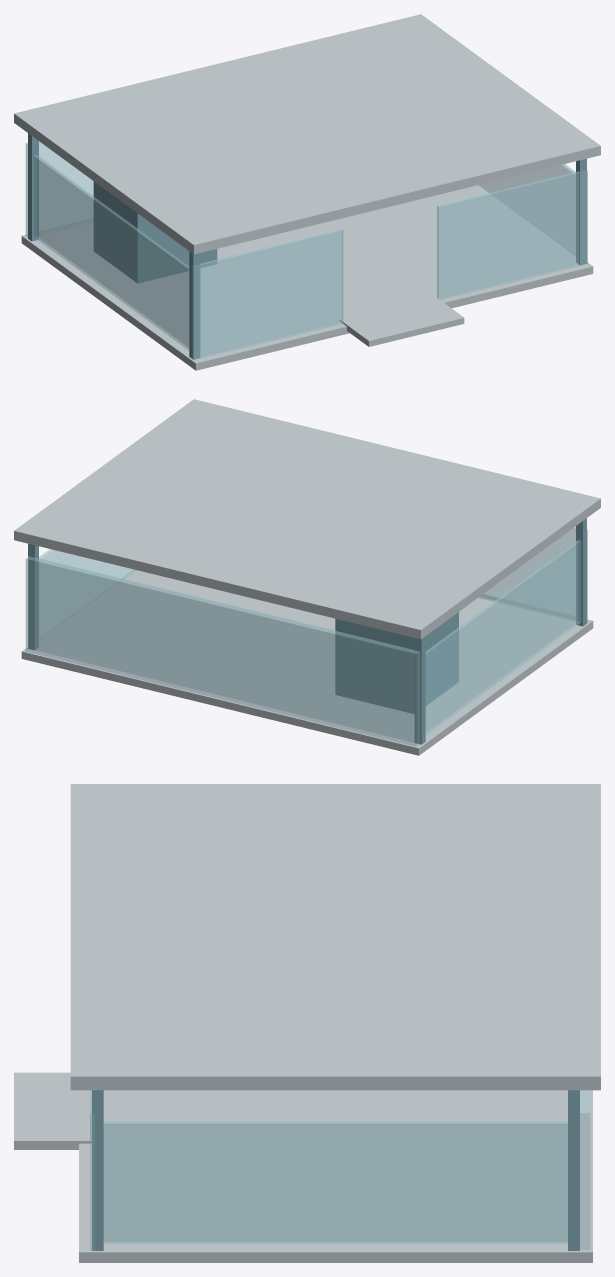
The model's file is sample-house.glb.
3 views of the same model, one above another, from view 1: azimuth 30°, elevation 25°; view 2: azimuth 150°, elevation 25°; view 3: azimuth 270°, elevation 25° (orthographic). The views are drawn at different scales.
Parts seen in each view (by area): view 1: Roof slab, Foundation / floor, Glazed entrance (×2), Glazed side wall (×2), Interior core, Rear facade, Steel column (×3), Raised threshold; view 2: Roof slab, Foundation / floor, Rear facade, Glazed side wall (×2), Interior core, Glazed entrance, Steel column (×3); view 3: Roof slab, Foundation / floor, Glazed side wall, Raised threshold, Steel column (×2), Rear facade, Glazed entrance.
Part boxes in pixels (x1,y1,x2,y2): Roof slab: [14, 14, 600, 254]; Foundation / floor: [21, 184, 593, 370]; Glazed entrance (×2): [192, 170, 587, 359]; Glazed side wall (×2): [34, 155, 575, 350]; Interior core: [93, 181, 217, 283]; Rear facade: [25, 141, 93, 236]; Steel column (×3): [28, 133, 586, 359]; Raised threshold: [340, 296, 464, 346]; Roof slab: [14, 399, 600, 639]; Foundation / floor: [21, 569, 593, 755]; Rear facade: [25, 556, 419, 746]; Glazed side wall (×2): [39, 540, 580, 735]; Interior core: [335, 612, 458, 713]; Glazed entrance: [478, 526, 587, 623]; Steel column (×3): [28, 518, 586, 744]; Roof slab: [70, 784, 600, 1090]; Foundation / floor: [79, 1090, 592, 1262]; Glazed side wall: [103, 1121, 567, 1243]; Raised threshold: [14, 1072, 91, 1149]; Steel column (×2): [92, 1090, 579, 1250]; Rear facade: [580, 1090, 589, 1249]; Glazed entrance: [90, 1090, 94, 1250].
Bounding box in the file's own units: 12.8 × 3.87 × 10.85.
